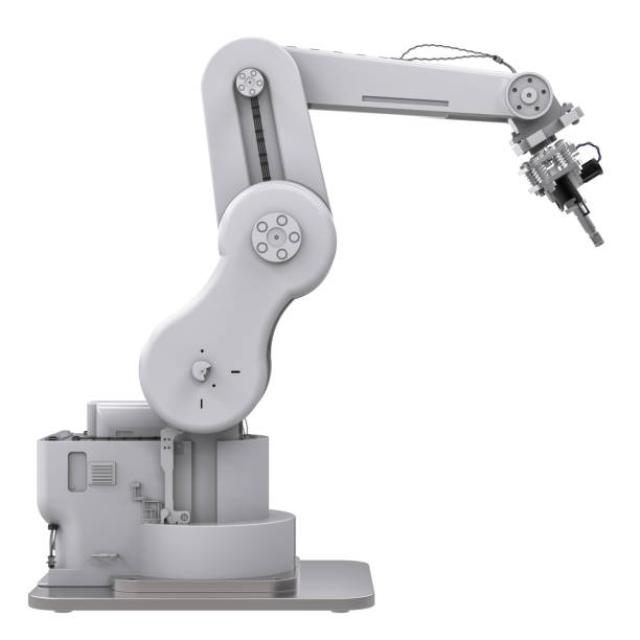Robotic-arm: (27, 25, 614, 628)
